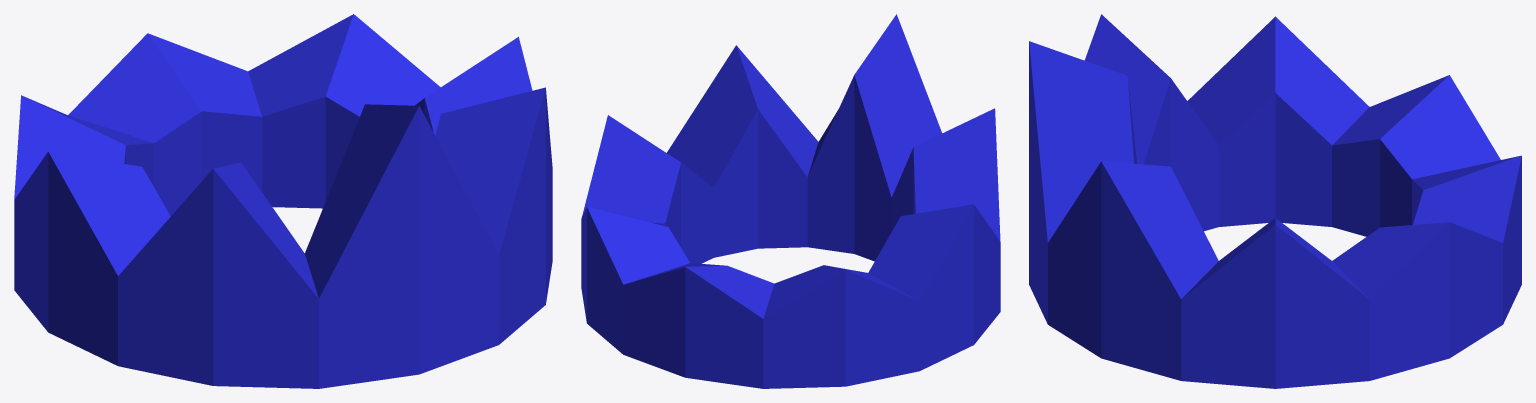
The model's file is playerCrownBlue.fbx.
3 views of the same model, side by side, from view 1: azimuth 30°, elevation 25°; view 2: azimuth 150°, elevation 25°; view 3: azimuth 270°, elevation 25° (orthographic). The views are drawn at different scales.
Parts seen in each view (by area): view 1: PlayerCrown - Blue; view 2: PlayerCrown - Blue; view 3: PlayerCrown - Blue.
Boxes of the visible parts, <box> form: PlayerCrown - Blue: <box>14,14,552,388</box>; PlayerCrown - Blue: <box>581,14,1000,388</box>; PlayerCrown - Blue: <box>1029,14,1521,388</box>.
Size of the model in its own units: 36.08 by 36.08 by 19.7.
